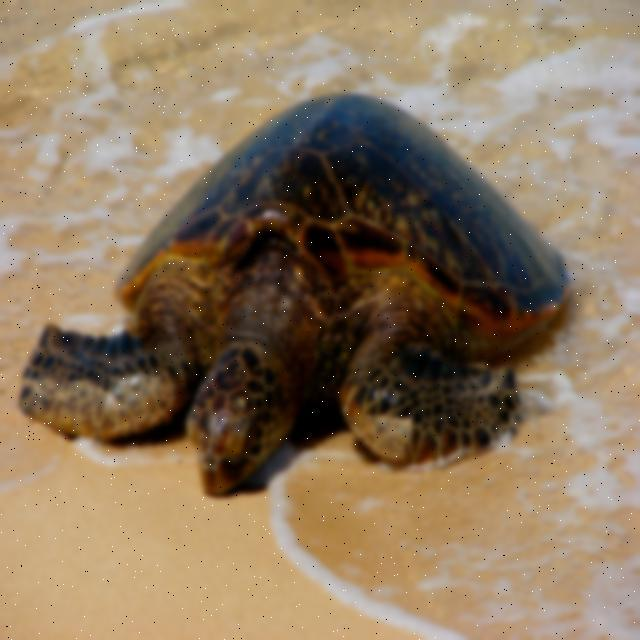tortoise: (13, 92, 560, 502)
